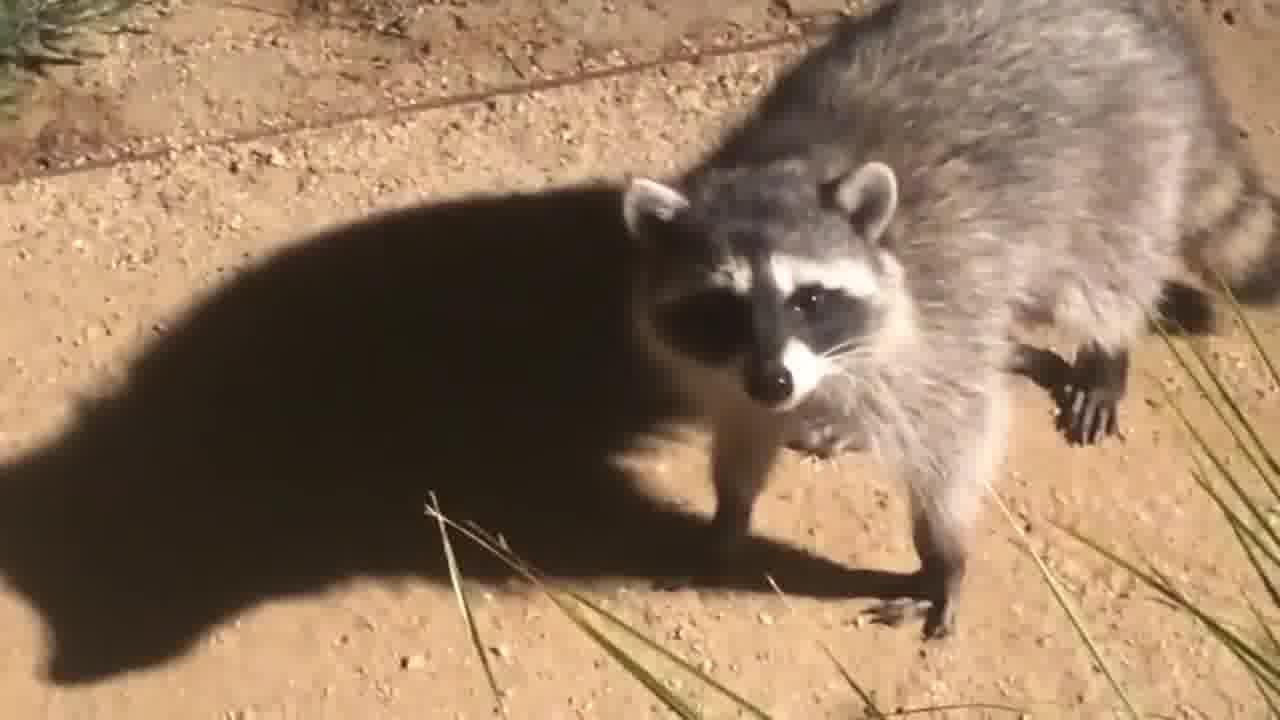raccoon: (612, 0, 1280, 648)
